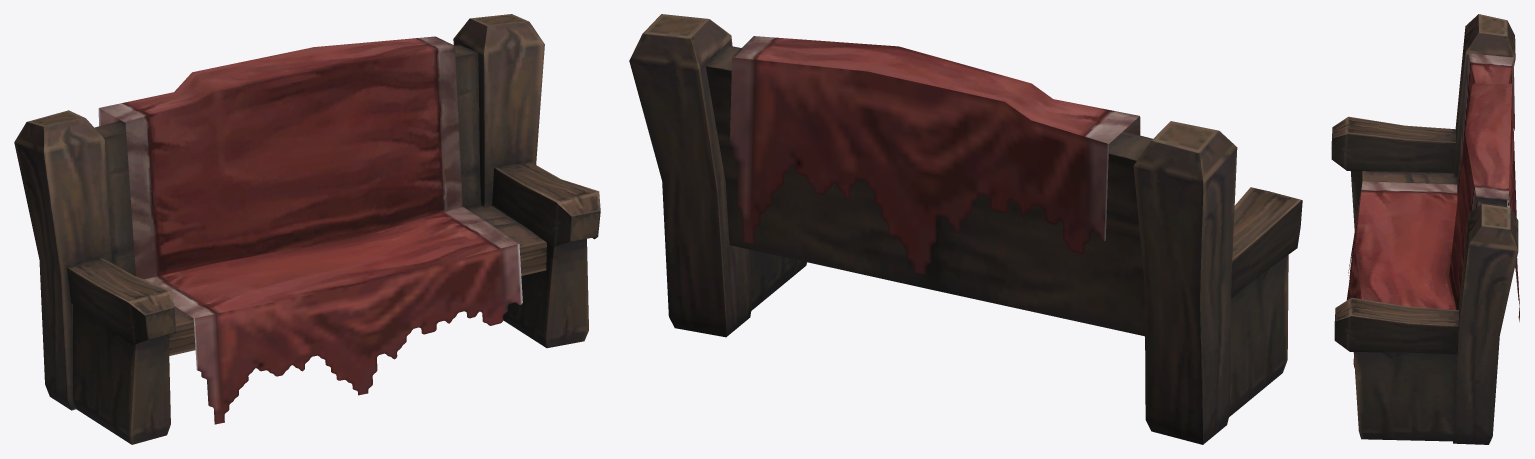
File: changyi.FBX
3 views of the same model, side by side, from view 1: azimuth 30°, elevation 25°; view 2: azimuth 150°, elevation 25°; view 3: azimuth 270°, elevation 25° (orthographic). The views are drawn at different scales.
Parts seen in each view (by area): view 1: polySurface1; view 2: polySurface1; view 3: polySurface1.
Boxes of the visible parts, left/top/right/bottom form: polySurface1: left=14, top=14, right=600, bottom=444; polySurface1: left=629, top=14, right=1302, bottom=444; polySurface1: left=1331, top=14, right=1519, bottom=444.
Bounding box in the file's own units: 8.26 × 4.46 × 3.21.
